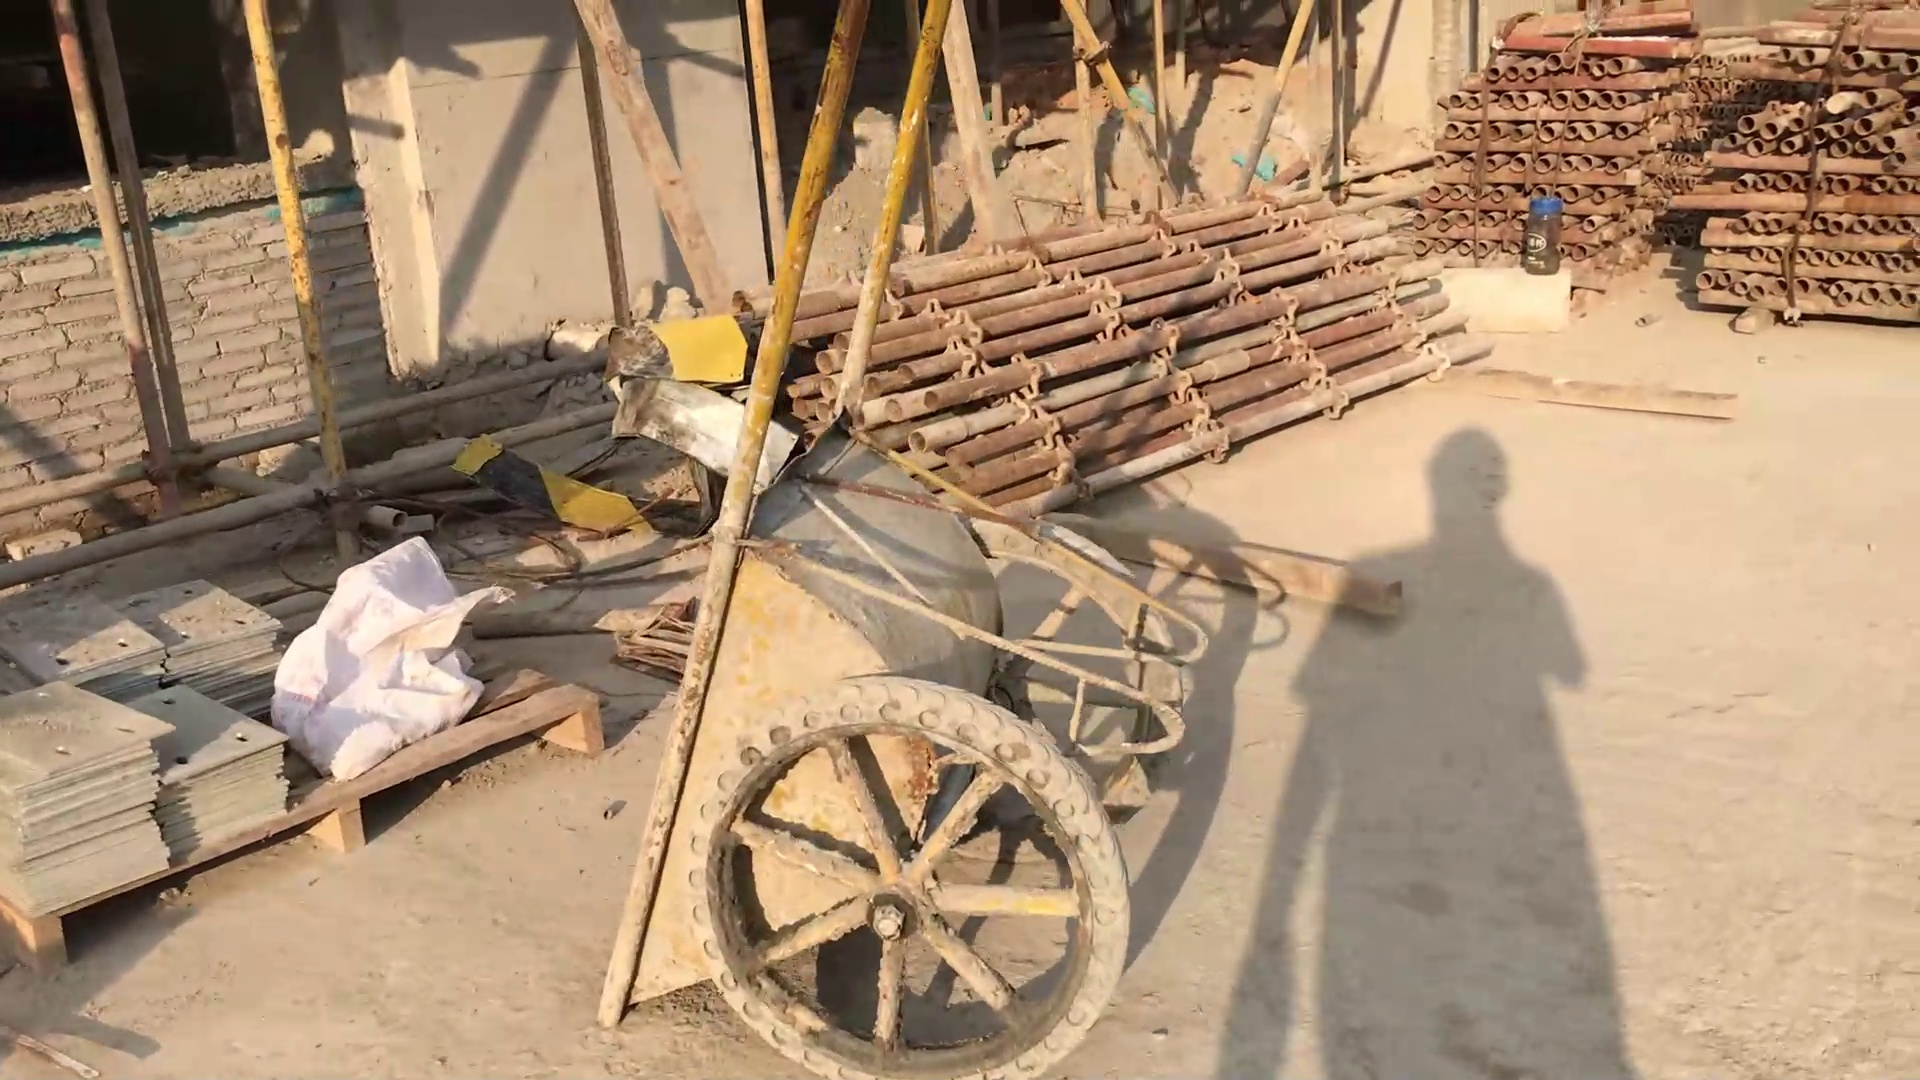handcart: (593, 1, 1215, 1079)
scaffold: (789, 196, 1457, 484), (1416, 1, 1692, 257), (1689, 3, 1920, 303)
